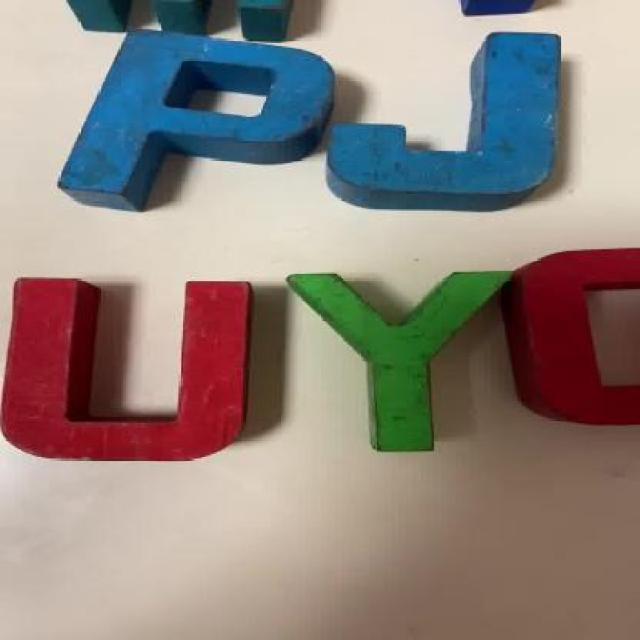J: (323, 30, 560, 210)
P: (64, 29, 330, 209)
U: (16, 277, 256, 452)
Y: (288, 271, 520, 454)
